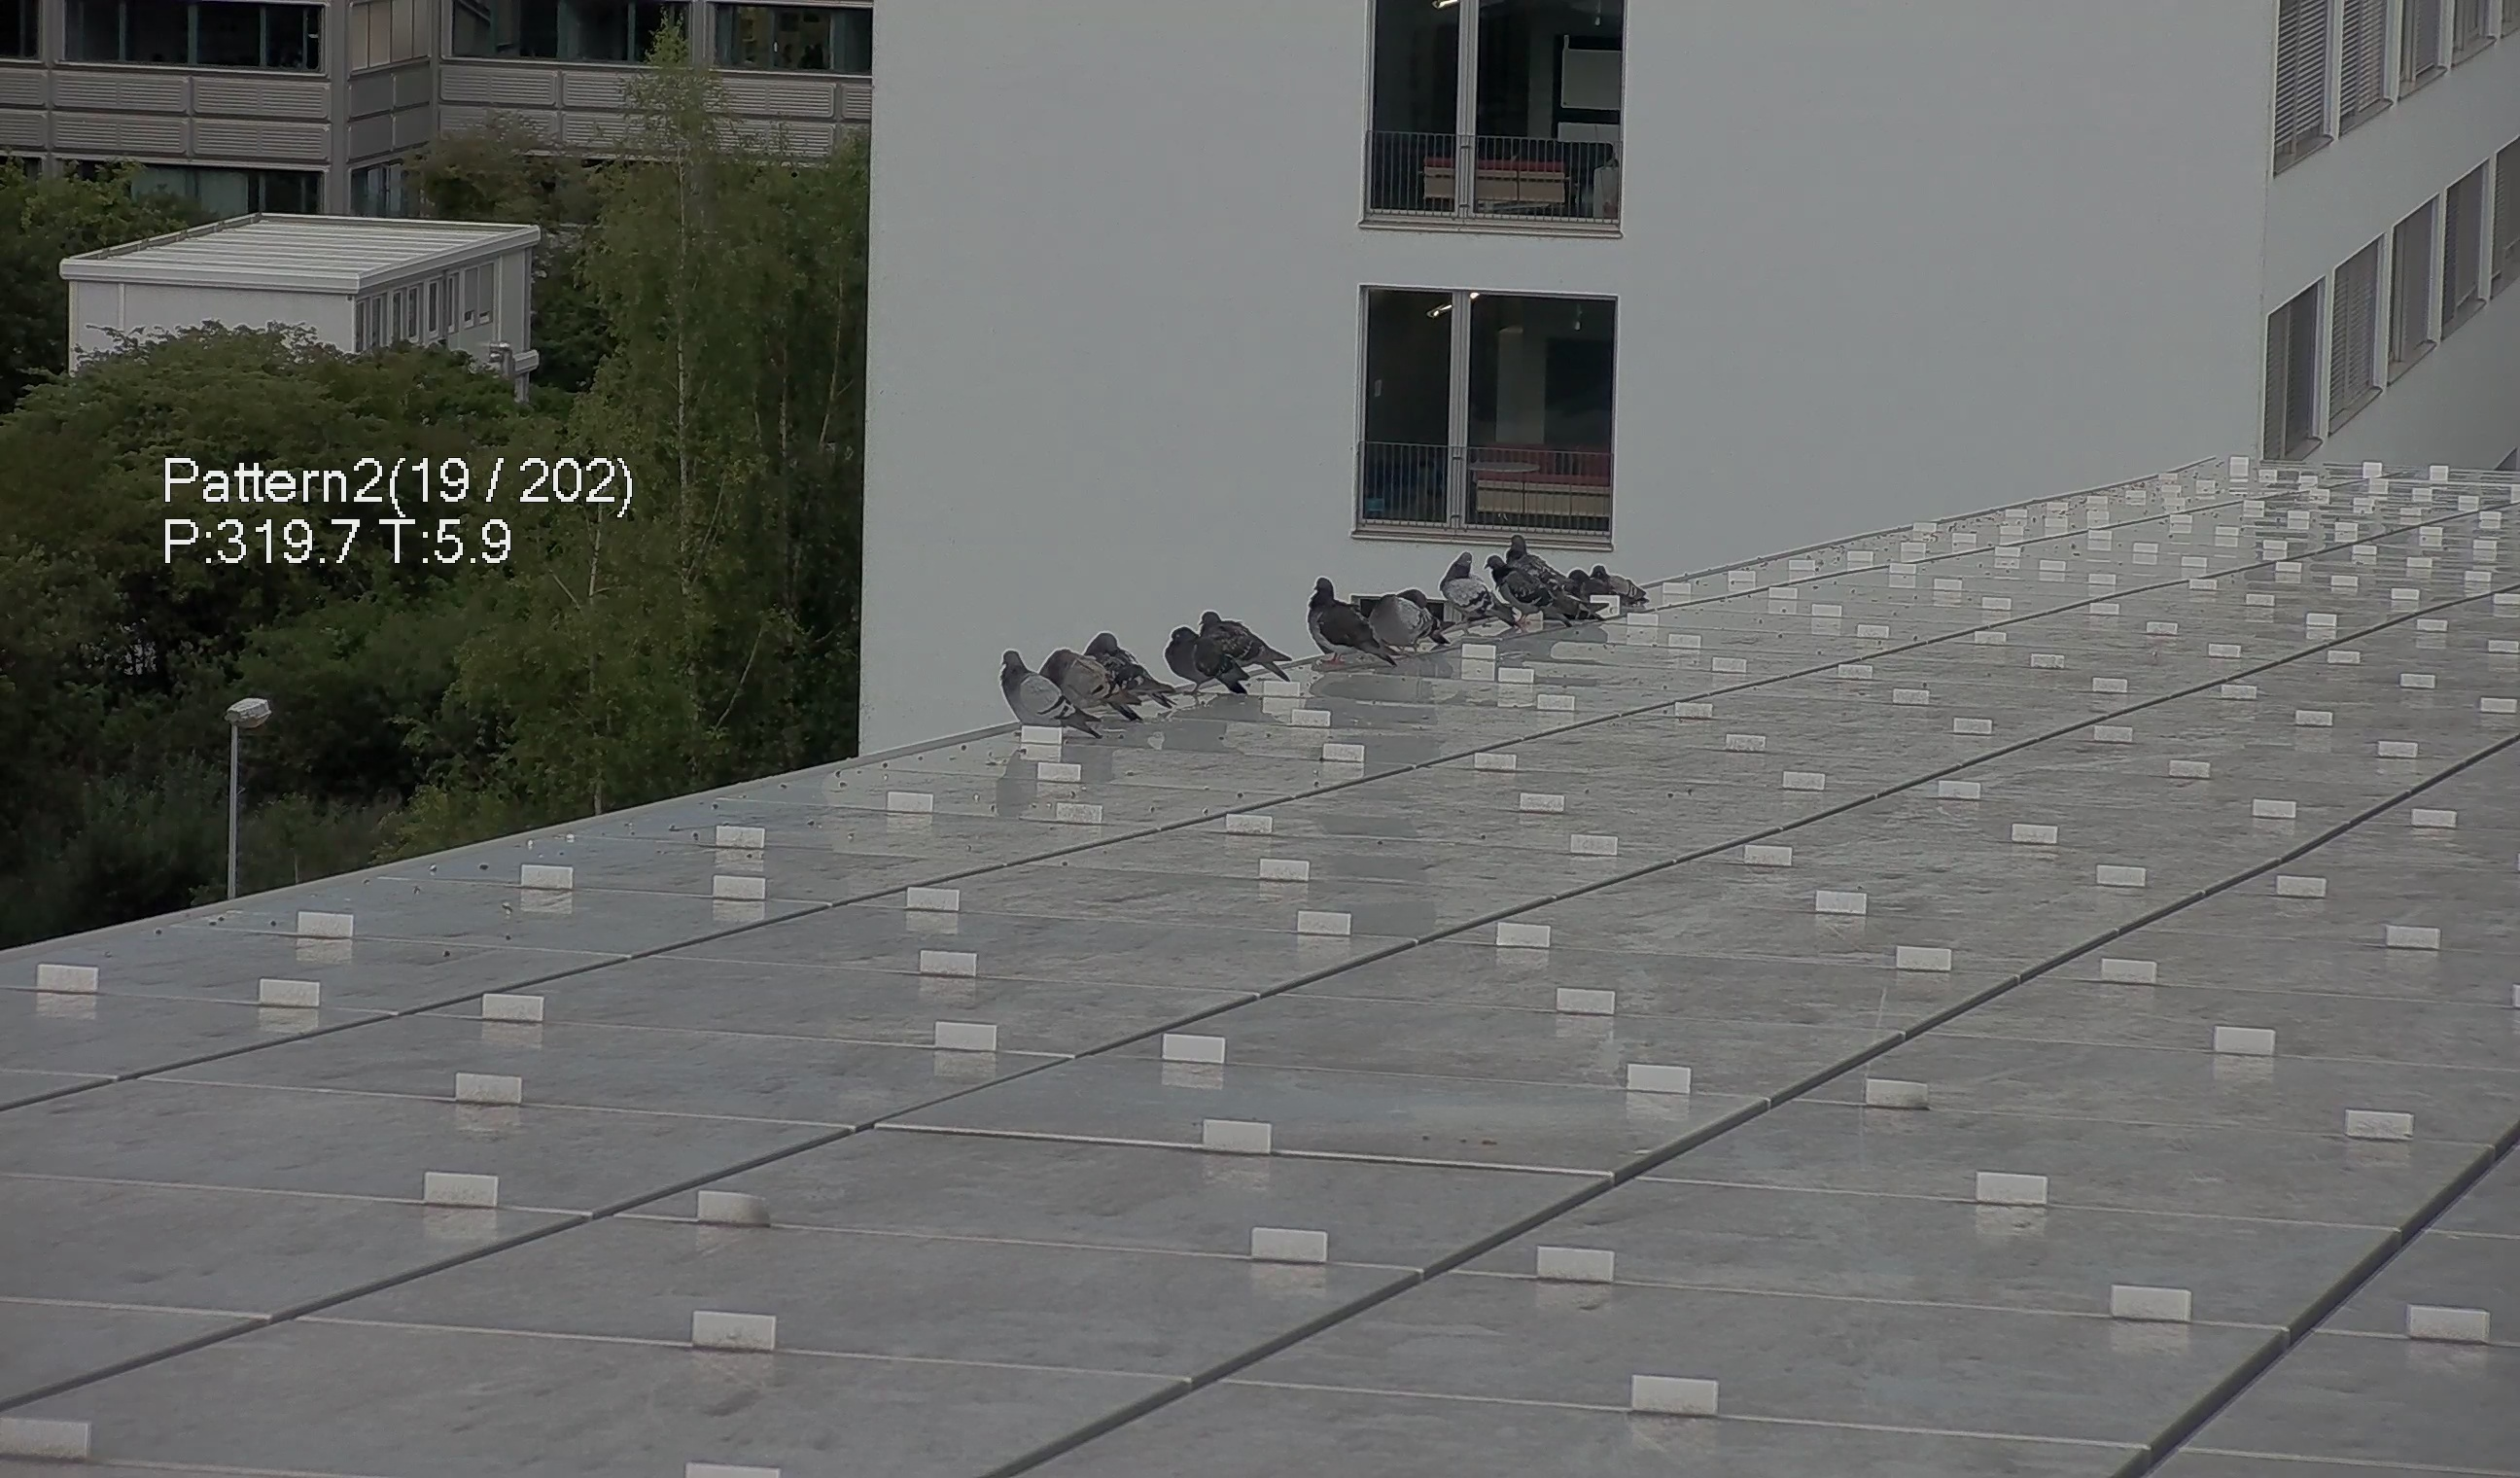Pigeon: (1296, 575, 1402, 665), (994, 649, 1090, 737), (1089, 611, 1164, 713), (1168, 621, 1252, 704), (1199, 611, 1298, 681), (1041, 648, 1127, 709), (1373, 581, 1440, 660), (1442, 551, 1509, 625), (1481, 560, 1560, 621), (1563, 561, 1646, 612), (1505, 530, 1542, 570)
